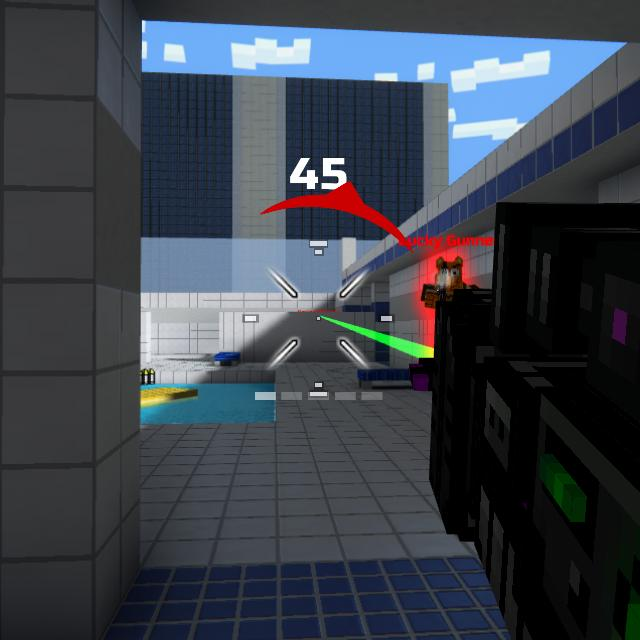Enemy: (418, 257, 471, 306)
